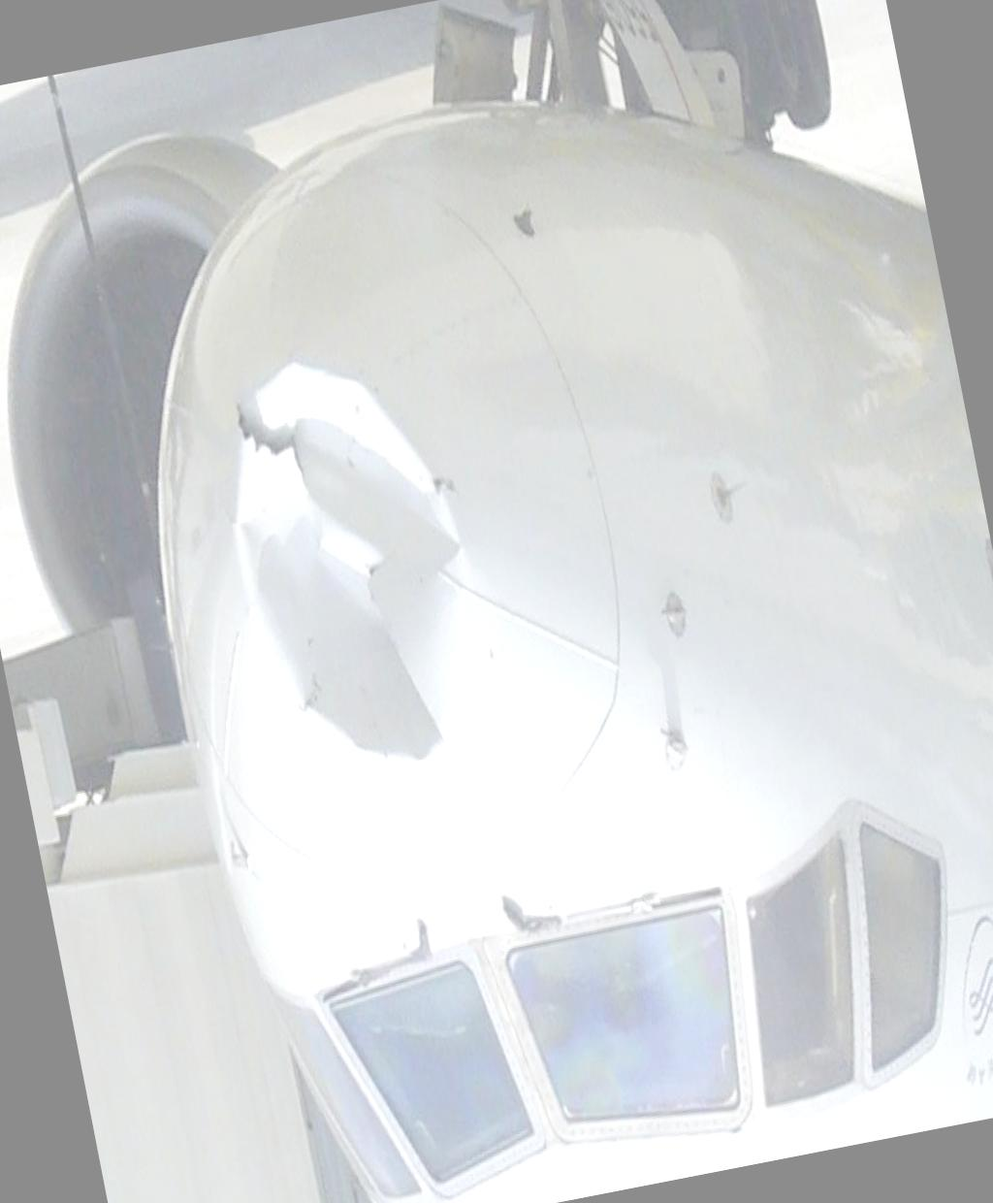dent: (207, 340, 497, 793)
